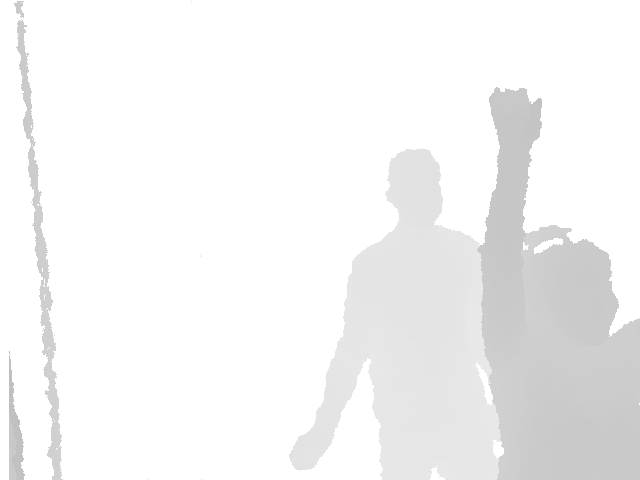hand: (487, 85, 545, 144)
head: (385, 148, 444, 224)
person: (288, 147, 506, 480), (476, 86, 640, 480)
